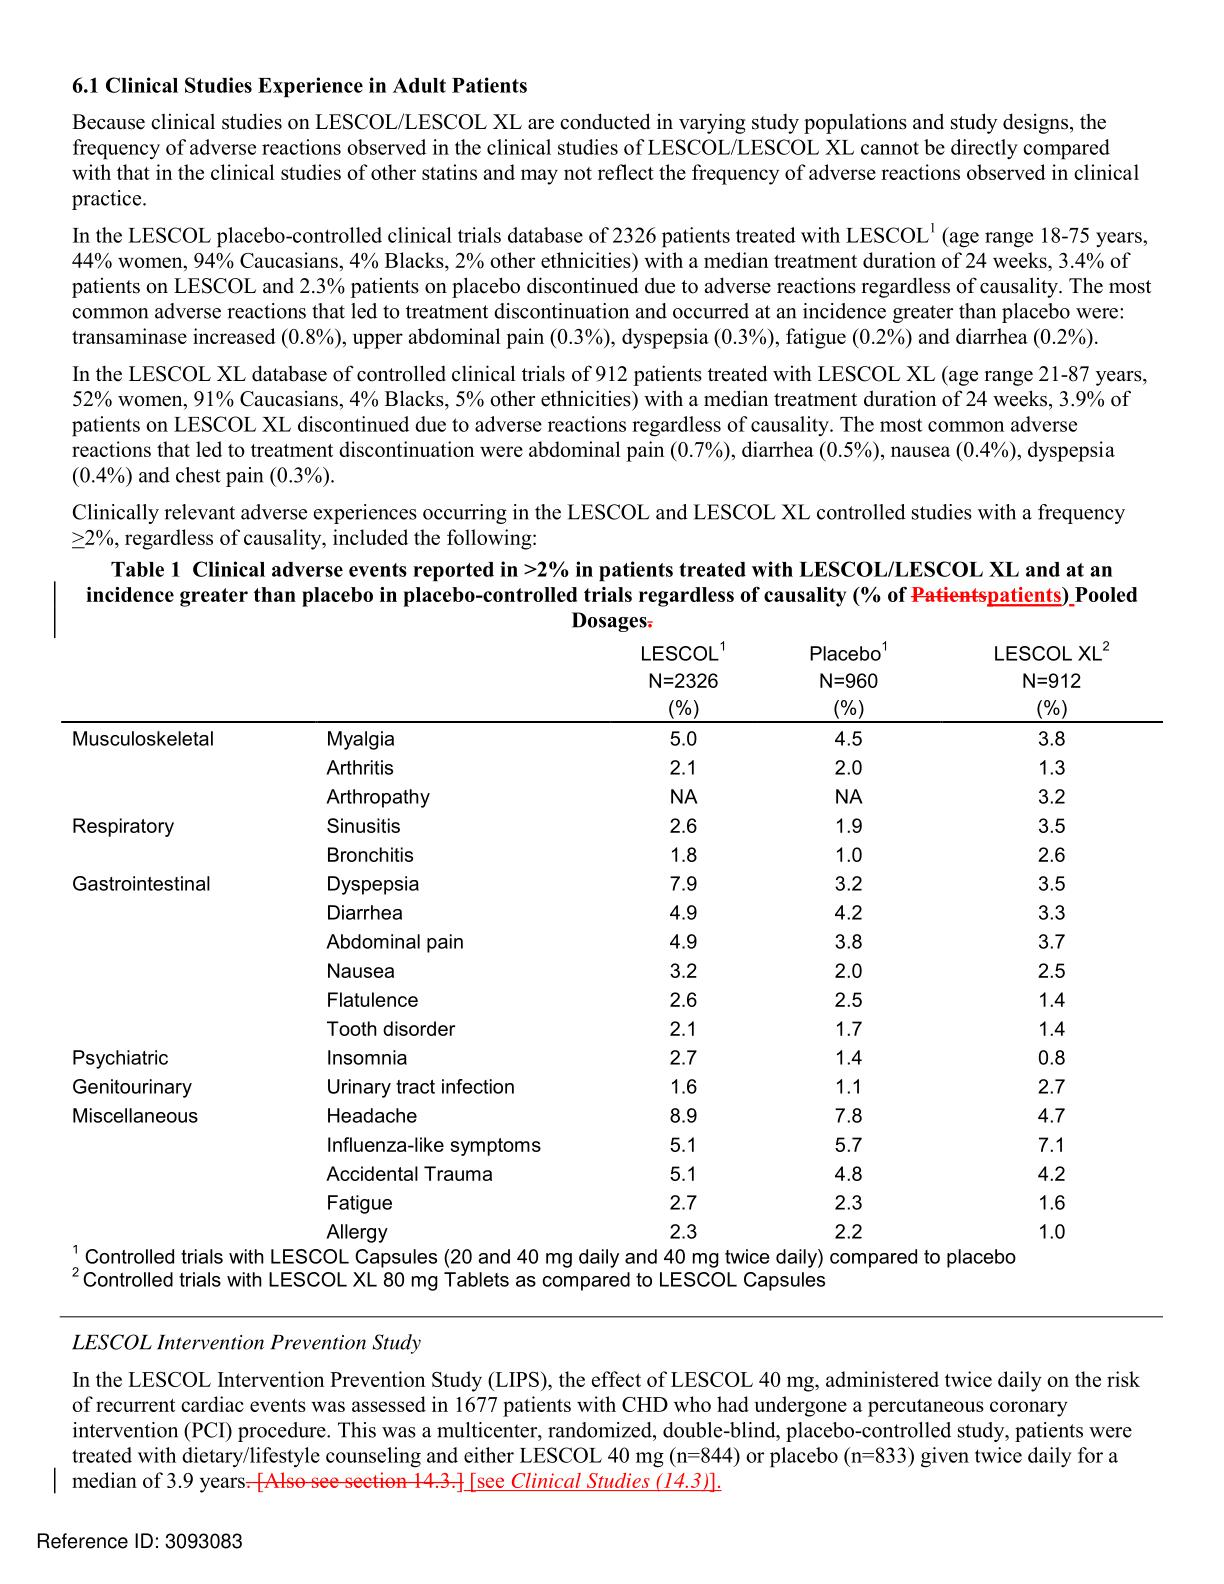partial_lined: (60, 634, 1166, 1247)
